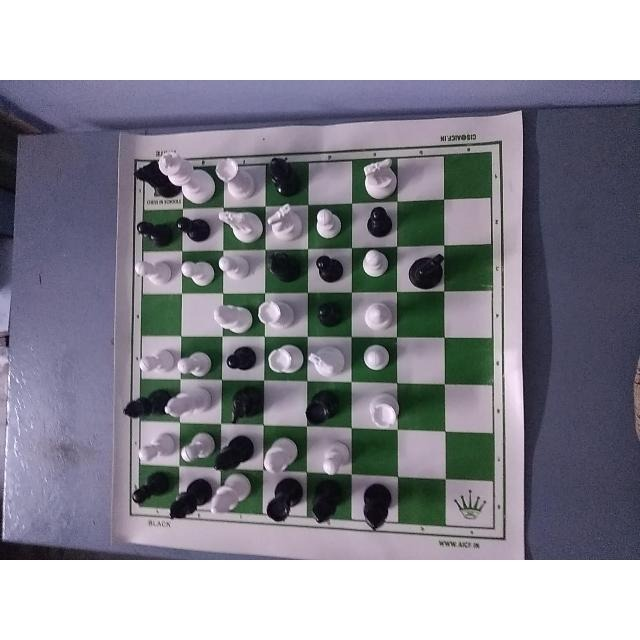black-bishop: (167, 472, 211, 527), (119, 386, 175, 426), (212, 433, 259, 478), (311, 479, 349, 533), (360, 480, 396, 536), (264, 152, 302, 202), (260, 243, 299, 282)
black-knight: (130, 156, 182, 205), (409, 249, 447, 293), (225, 380, 263, 424)
black-pawn: (126, 469, 170, 511), (133, 215, 177, 249), (309, 250, 349, 286), (360, 202, 396, 241), (175, 212, 212, 248), (224, 340, 260, 376), (313, 300, 345, 329)
black-rook: (263, 476, 307, 525), (303, 383, 343, 425)
white-bishop: (205, 474, 255, 521), (166, 386, 218, 426), (264, 431, 298, 478), (361, 296, 399, 338), (213, 300, 257, 336)
white-king: (158, 146, 213, 202)
white-knight: (213, 203, 261, 251), (355, 155, 399, 202), (306, 336, 350, 378), (262, 205, 305, 247)
white-pawn: (133, 251, 175, 291), (135, 429, 177, 465), (307, 205, 347, 240), (358, 339, 396, 375), (355, 246, 389, 286), (316, 440, 350, 480), (135, 346, 177, 376), (177, 255, 219, 284), (180, 432, 214, 466), (217, 252, 256, 280), (177, 346, 211, 378)
white-rook: (363, 385, 403, 433), (211, 157, 255, 200), (259, 294, 305, 333), (265, 341, 307, 381)
